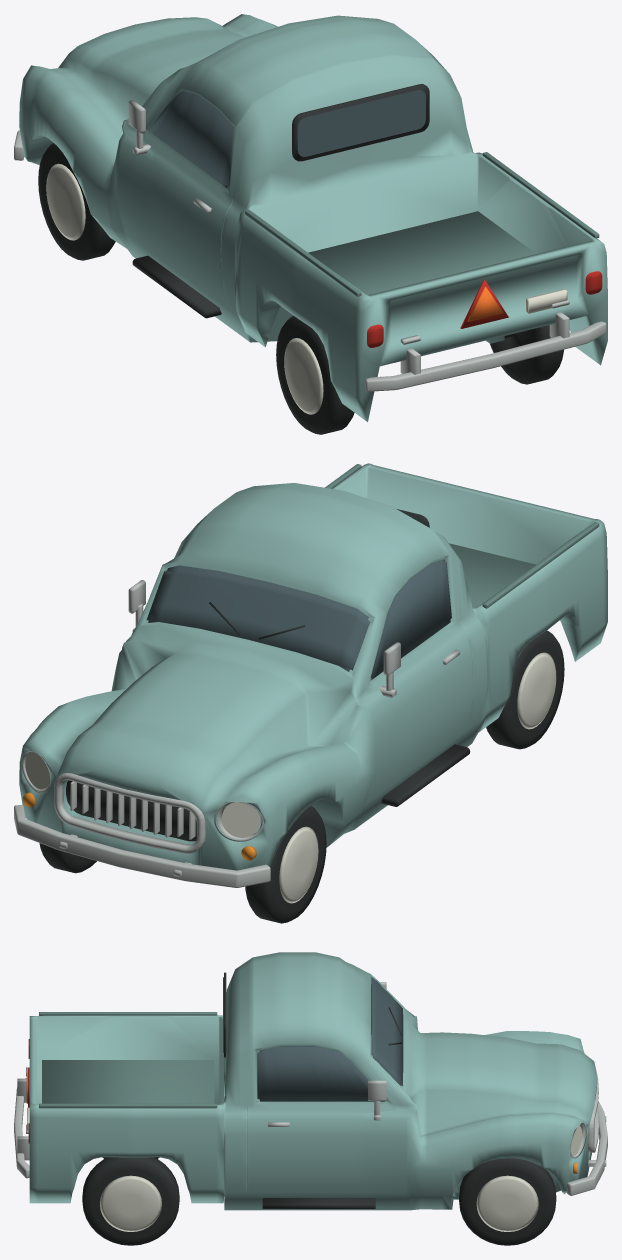
File: duett-p210-epa.glb
3 renders of one model, top to bottom at view 1: azimuth 30°, elevation 25°; view 2: azimuth 150°, elevation 25°; view 3: azimuth 270°, elevation 25°, orthographic. The views are drawn at different scales.
Visible parts, largest first — view 1: body, trim_darker, parts_restrained_satin_chrome, glass_rear, glass_envelope, parts_aged_charcoal_rubber, wheel_rl, wheel_fl, trim_rim_fl, trim_rim_rl, wheel_rr, parts_tail_red (+2 smaller); view 2: body, glass_envelope, parts_restrained_satin_chrome, parts_aged_charcoal_rubber, trim_darker, wheel_rl, wheel_fl, trim_rim_fl, trim_rim_rl, lamp_headlamp, wheel_fr; view 3: body, trim_darker, glass_envelope, wheel_rr, wheel_fr, parts_restrained_satin_chrome, trim_rim_rr, trim_rim_fr, parts_aged_charcoal_rubber.
Part boxes in pixels (box(x1,y1,x2,y2)): body: box(19, 14, 607, 421); trim_darker: box(245, 152, 599, 296); parts_restrained_satin_chrome: box(14, 100, 606, 391); glass_rear: box(297, 90, 425, 156); glass_envelope: box(148, 90, 234, 188); parts_aged_charcoal_rubber: box(132, 84, 429, 318); wheel_rl: box(276, 316, 354, 434); wheel_fl: box(38, 143, 115, 260); trim_rim_fl: box(46, 163, 85, 240); trim_rim_rl: box(284, 338, 323, 414); wheel_rr: box(486, 325, 563, 384); parts_tail_red: box(367, 271, 602, 347); body: box(19, 463, 607, 870); glass_envelope: box(146, 559, 451, 680); parts_restrained_satin_chrome: box(14, 580, 460, 887); parts_aged_charcoal_rubber: box(66, 509, 470, 841); trim_darker: box(325, 464, 599, 608); wheel_rl: box(486, 630, 564, 749); wheel_fl: box(245, 806, 326, 923); trim_rim_fl: box(279, 826, 318, 903); trim_rim_rl: box(517, 652, 556, 729); lamp_headlamp: box(25, 752, 260, 837); wheel_fr: box(39, 843, 96, 873); body: box(29, 952, 597, 1210); trim_darker: box(39, 1012, 217, 1108); glass_envelope: box(257, 977, 403, 1101); wheel_rr: box(82, 1157, 179, 1245); wheel_fr: box(459, 1158, 556, 1245); parts_restrained_satin_chrome: box(14, 982, 607, 1195); trim_rim_rr: box(100, 1175, 161, 1231); trim_rim_fr: box(476, 1175, 538, 1231); parts_aged_charcoal_rubber: box(224, 972, 402, 1208).
Size of the model in its own units: 1.68 by 1.75 by 4.1.
